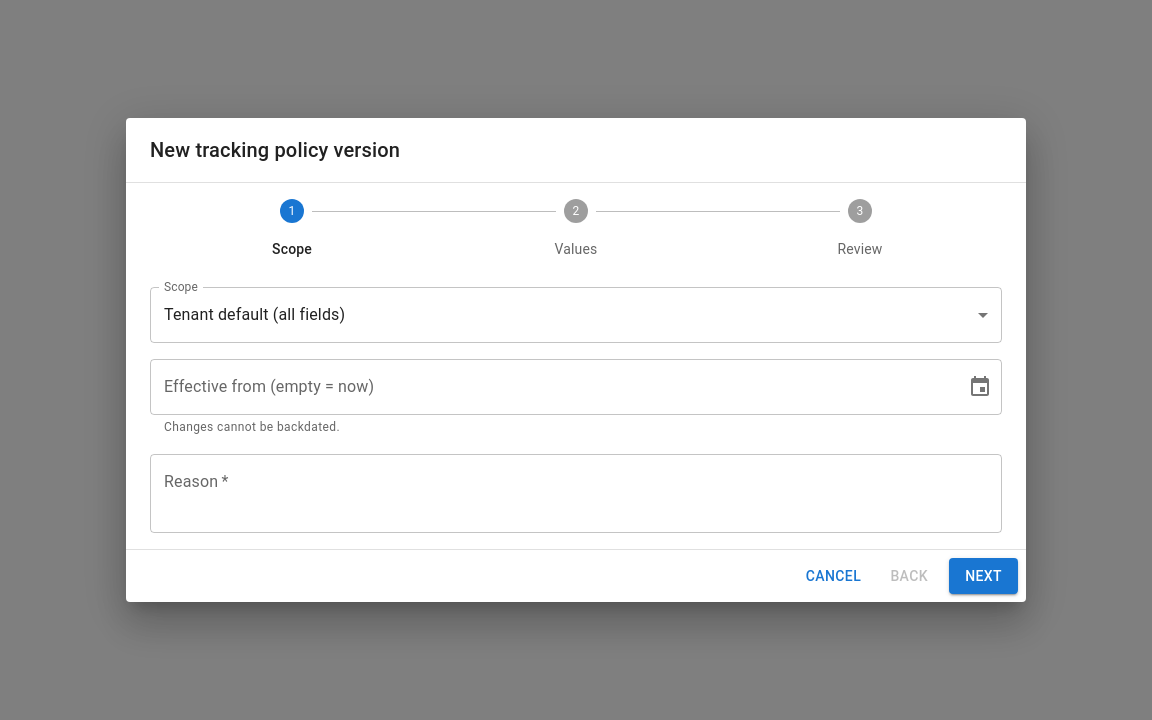
it: PolicyOverrideDialog › offers every field for the tenant default
In the text box labelled "Reason *": coordinates (576, 493) x1=164 y1=470 x2=988 y2=516, type "Night shift tuning"
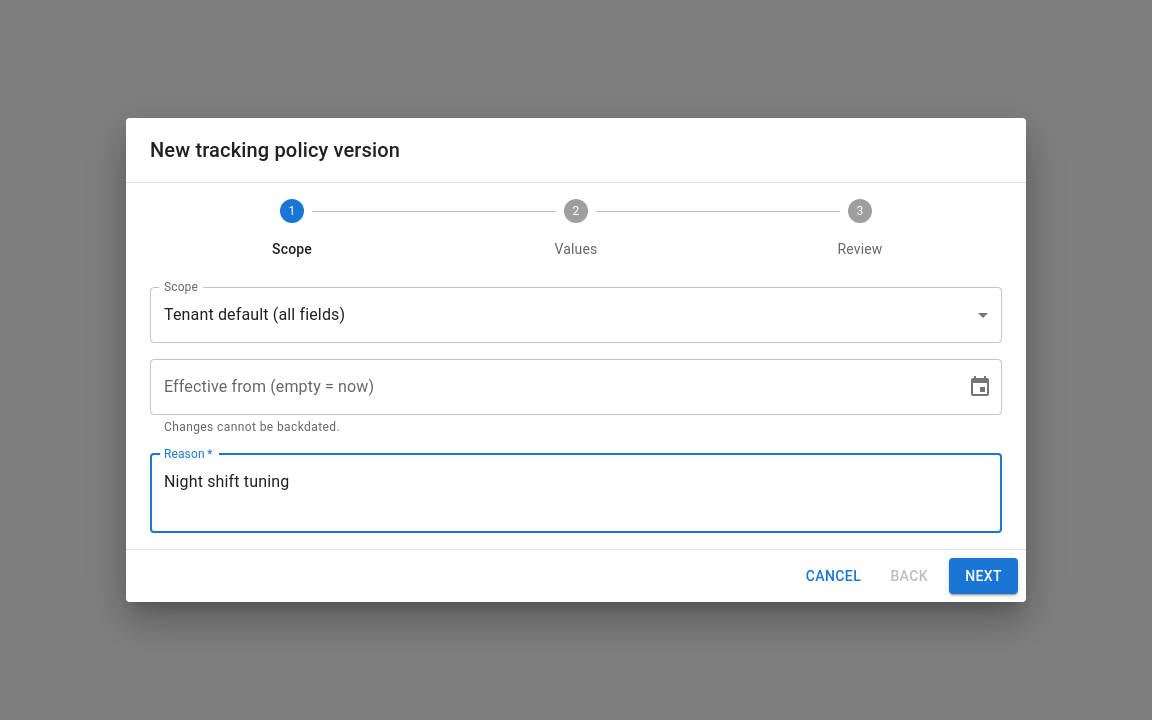
Click the button "Next": coordinates (984, 576) x1=949 y1=558 x2=1018 y2=594
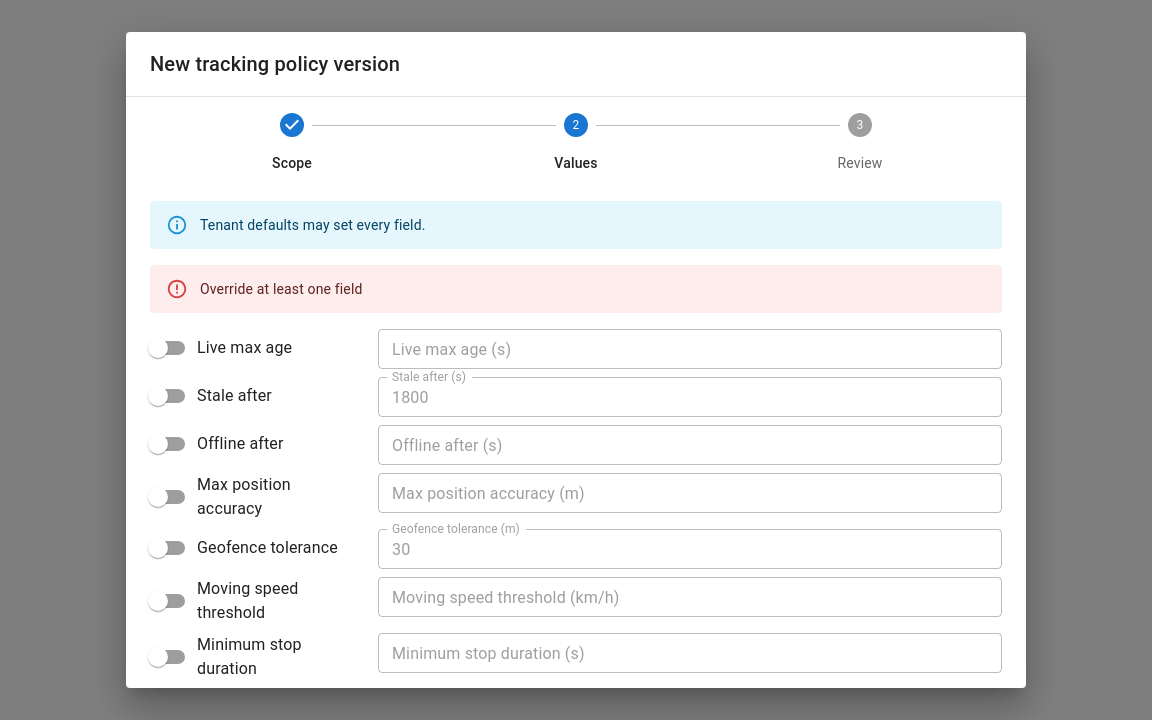
Expected: the switch named "Override Live max age" is shown, x1=148 y1=338 x2=292 y2=358
